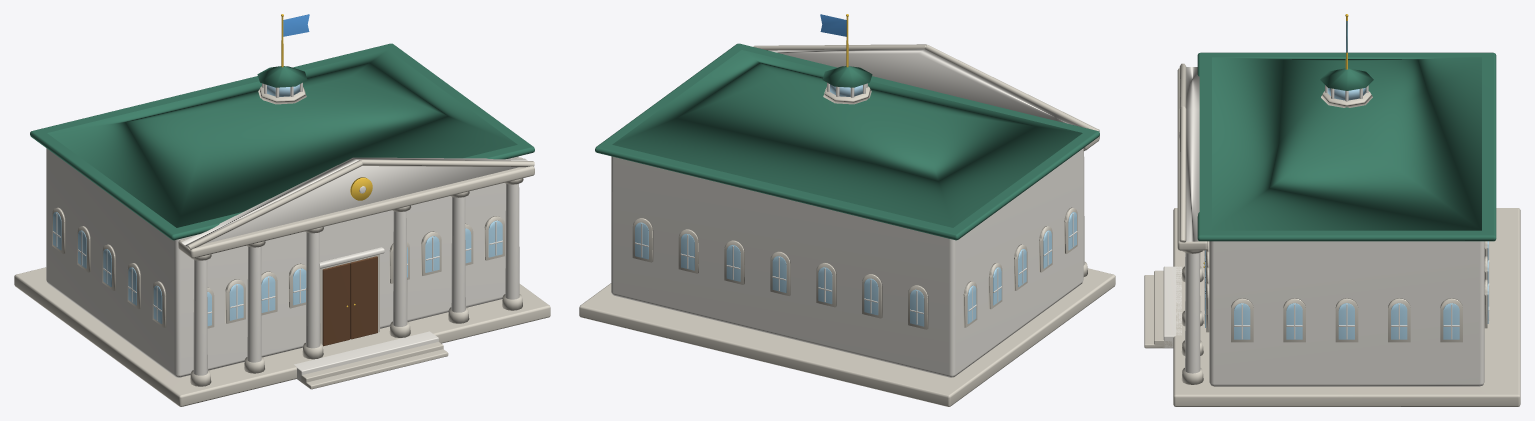
The model's file is townhall_marble.glb.
The picture shows the model from 3 angles, left to right: view 1: azimuth 30°, elevation 25°; view 2: azimuth 150°, elevation 25°; view 3: azimuth 270°, elevation 25°; orthographic projection. The views are drawn at different scales.
Bounding box in the file's own units: 16.2 × 12 × 13.65.
